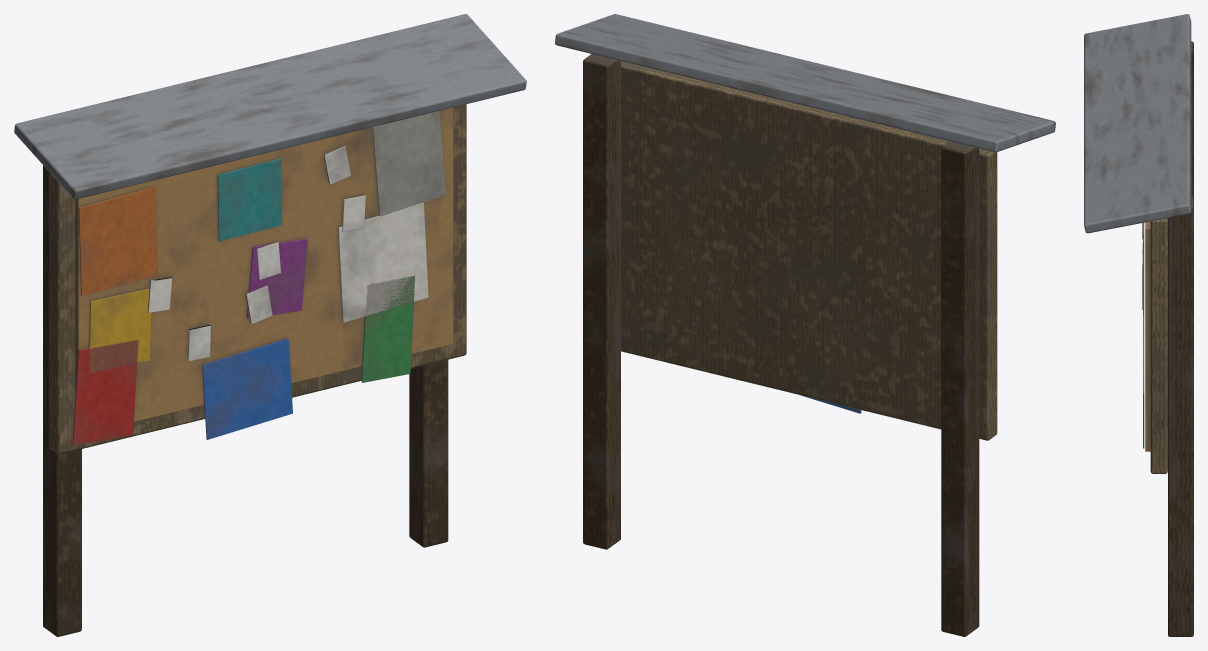
Rendered from ulica_tablica.glb.
The picture shows the model from 3 angles, left to right: view 1: azimuth 30°, elevation 25°; view 2: azimuth 150°, elevation 25°; view 3: azimuth 270°, elevation 25°; orthographic projection. The views are drawn at different scales.
Parts seen in each view (by area): view 1: Tablica; view 2: Tablica; view 3: Tablica.
Part boxes in pixels (x1=…): Tablica: x1=14, y1=14, x2=526, y2=636; Tablica: x1=555, y1=14, x2=1055, y2=636; Tablica: x1=1084, y1=14, x2=1193, y2=636.
Bounding box in the file's own units: 2.1 × 2.27 × 0.5077.
Materials: 2 (2 with a texture image).
